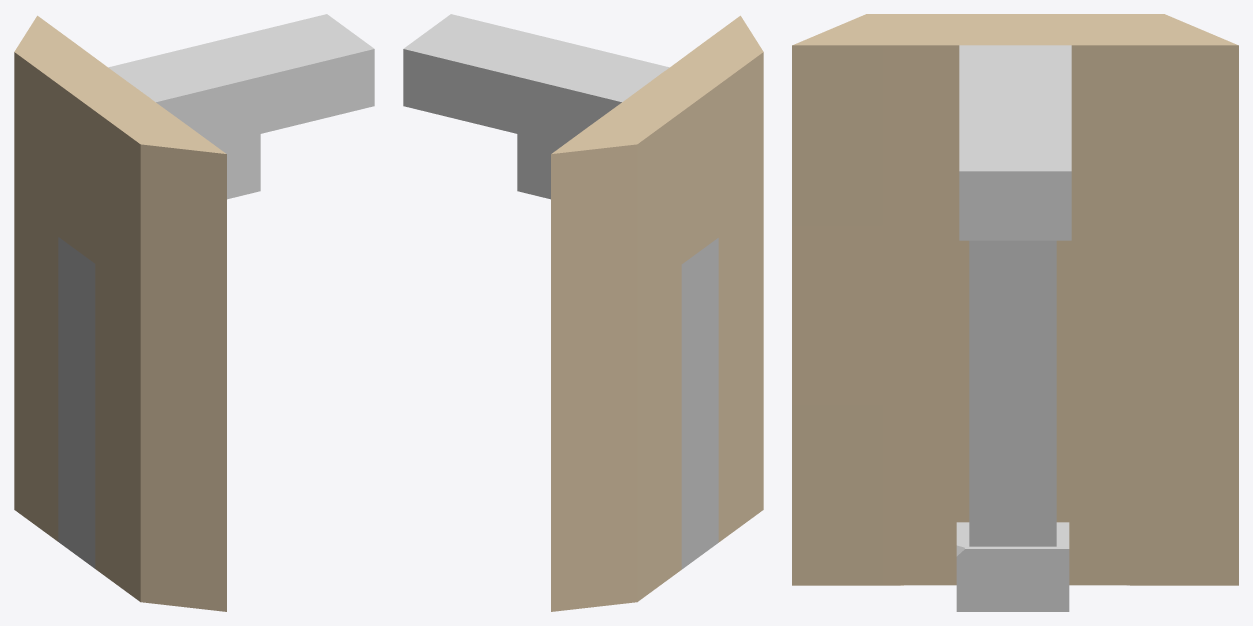
The model's file is WallThresholdA2.fbx.
3 views of the same model, side by side, from view 1: azimuth 30°, elevation 25°; view 2: azimuth 150°, elevation 25°; view 3: azimuth 270°, elevation 25° (orthographic). The views are drawn at different scales.
Visible parts, largest first — view 1: WallThresholdA; view 2: WallThresholdA; view 3: WallThresholdA.
Part boxes in pixels (box(x1,y1,x2,y2)): WallThresholdA: box(14, 14, 374, 611); WallThresholdA: box(403, 14, 763, 611); WallThresholdA: box(792, 14, 1238, 611).
Size of the model in its own units: 152 by 183 by 244.
